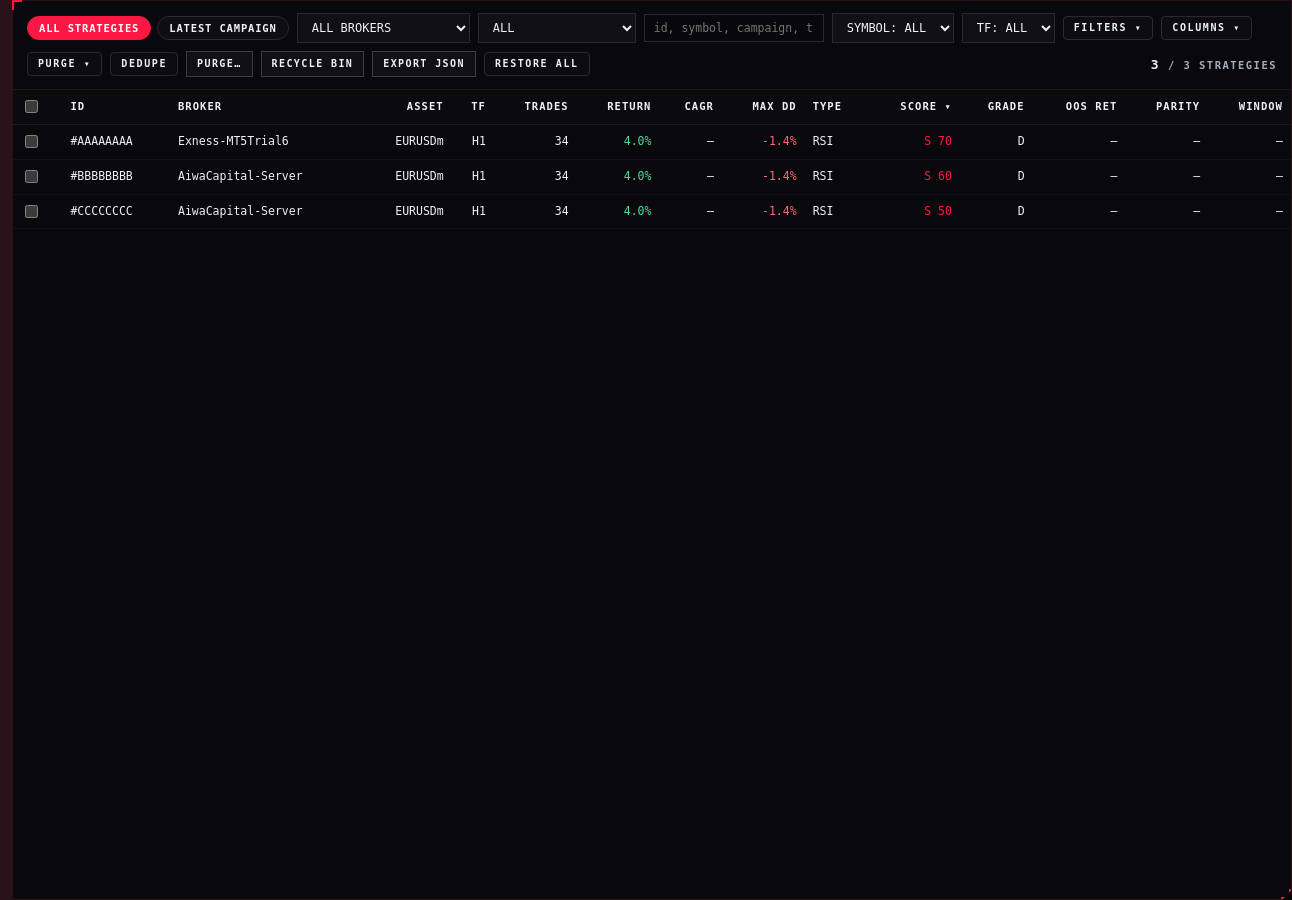
Test: VAULT (DECK) › selects several with Ctrl+click, opens the right-click menu for N SELECTED, and names what each filter hides
The width and height of the screenshot is (1292, 900).
Expected: the text "3 / 3 STRATEGIES" is shown, [1151,58,1277,70]
Click the text "#AAAAAAAA".
click(116, 142)  # box [62,124,170,159]
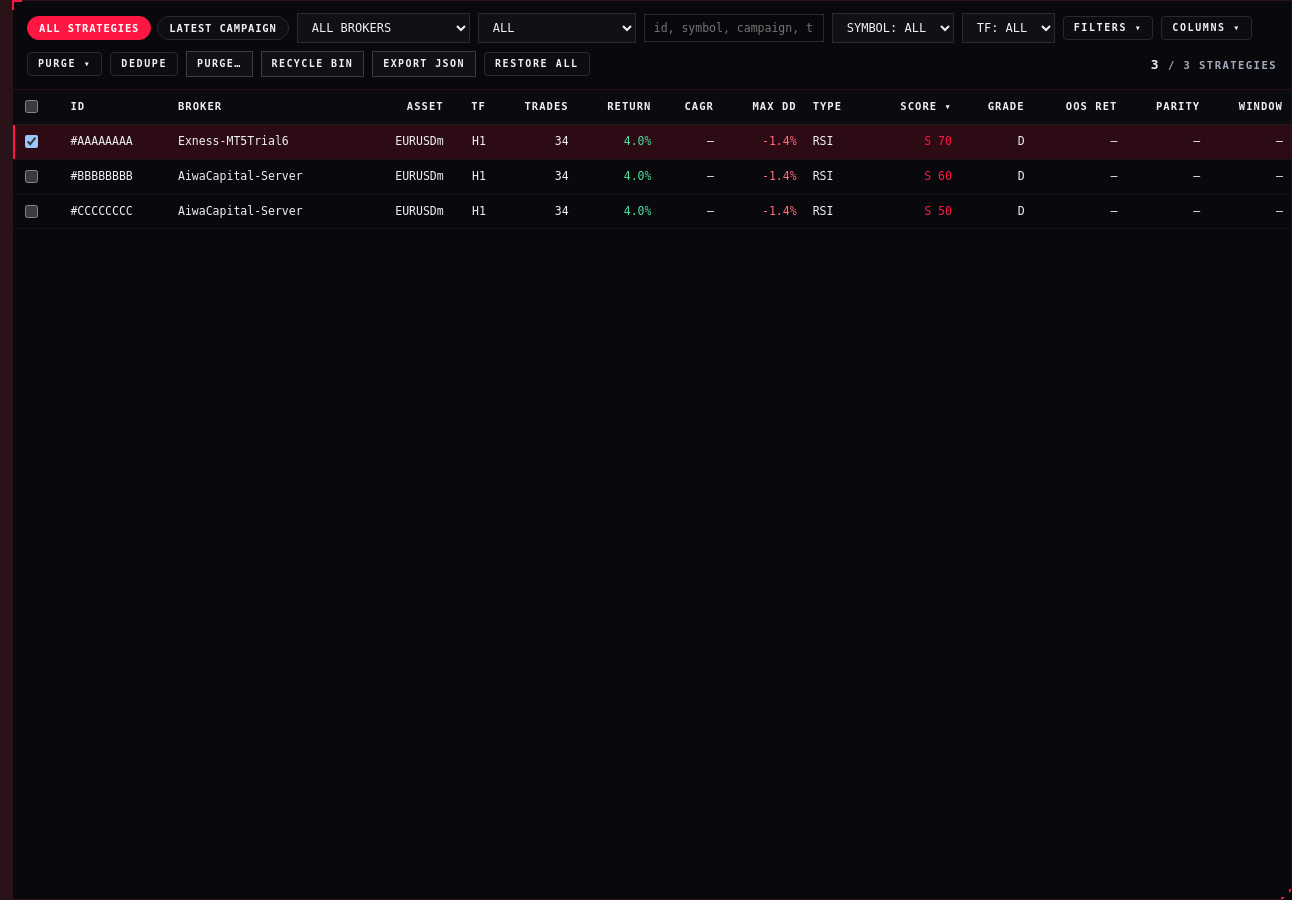
Click the text "#BBBBBBBB".
click(116, 177)  # box [62,159,170,194]
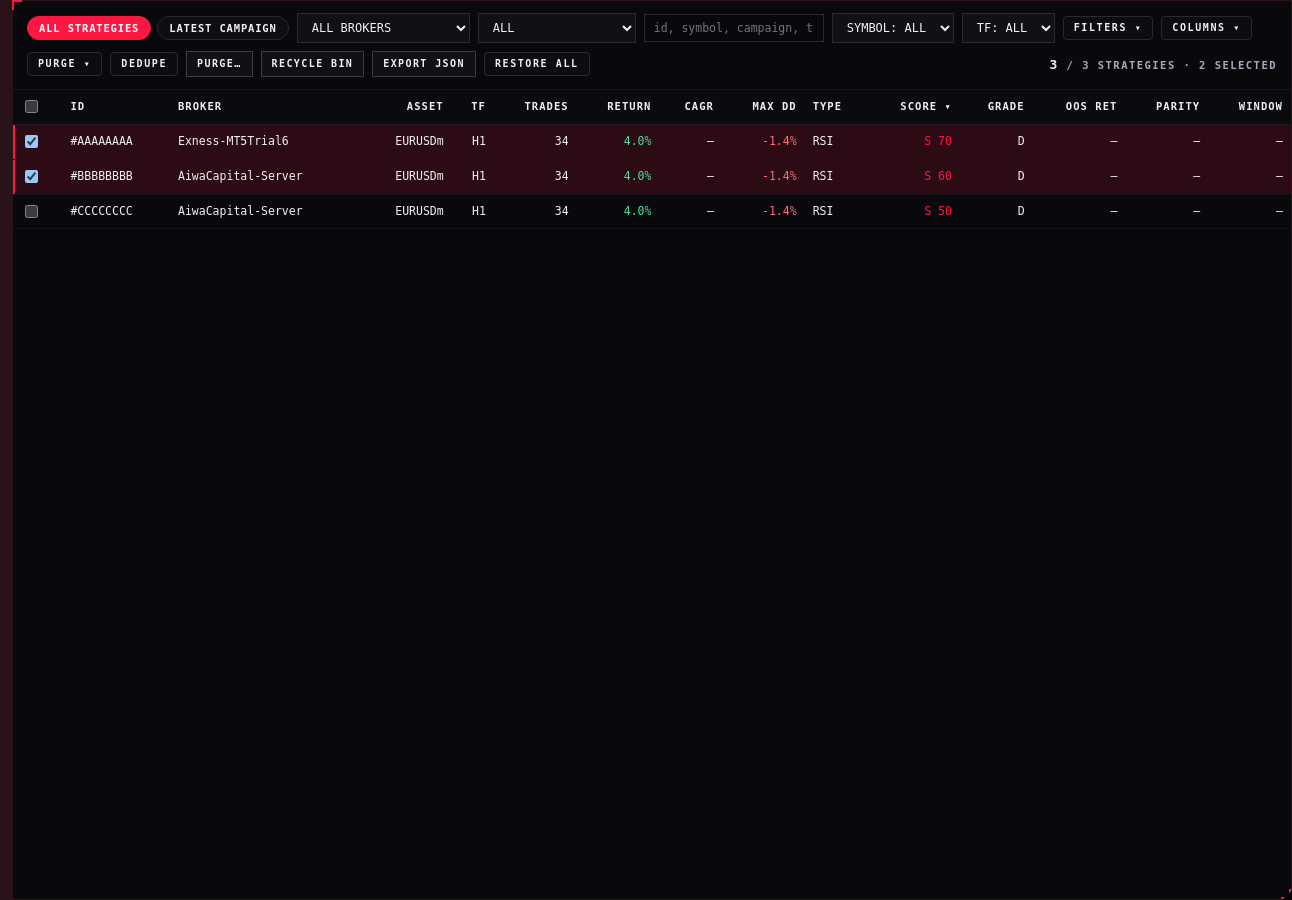
Expected: the text "3 / 3 STRATEGIES · 2 SELECTED" is shown, [1050,58,1277,70]
Right-click the text "#BBBBBBBB".
right_click(116, 177)  # box [62,159,170,194]
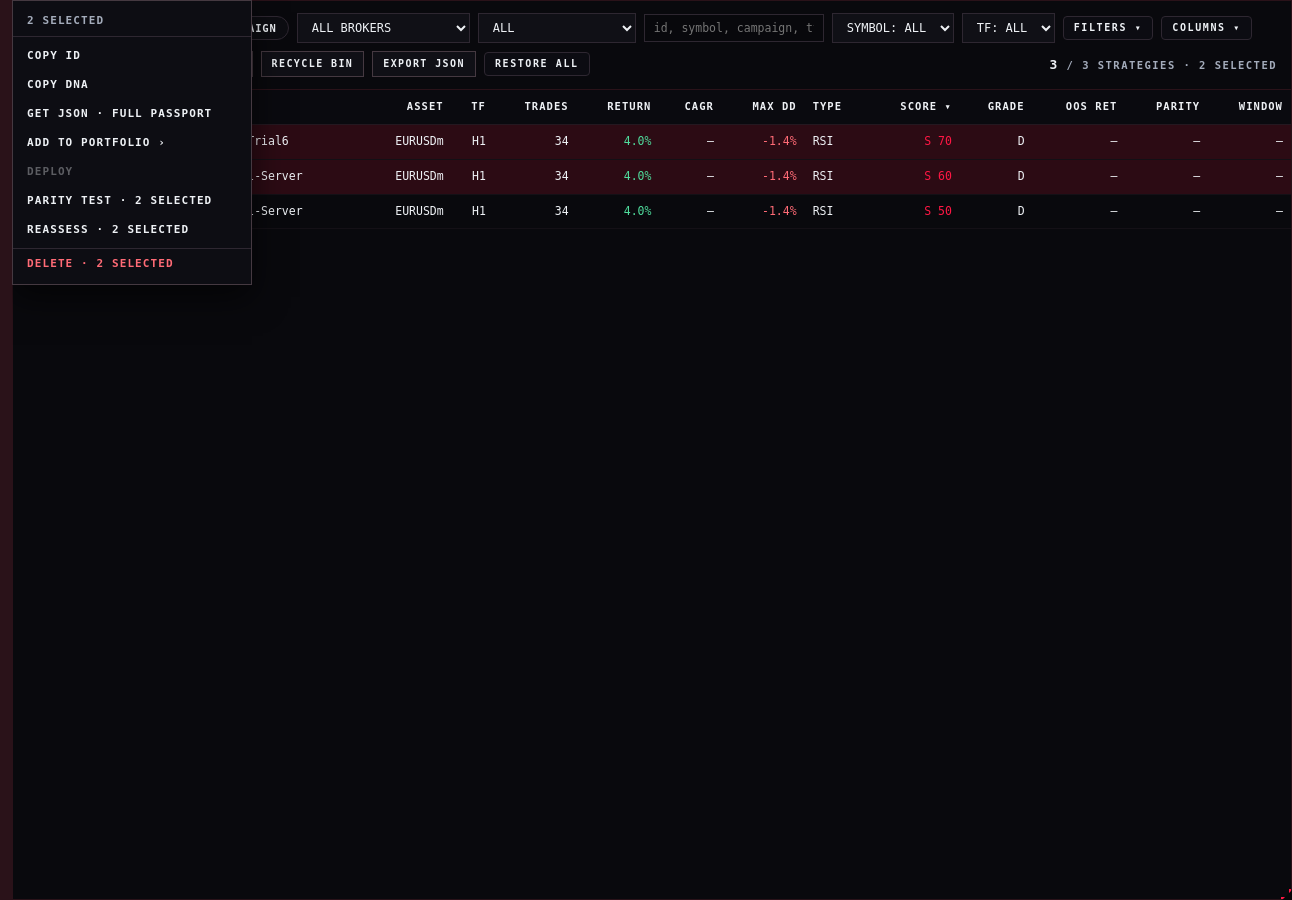
Expected: the menu item "DELETE · 2 SELECTED" is shown, [13,248,251,278]
Expected: the menu item "DEPLOY" is disabled, [13,157,251,186]
Press Escape
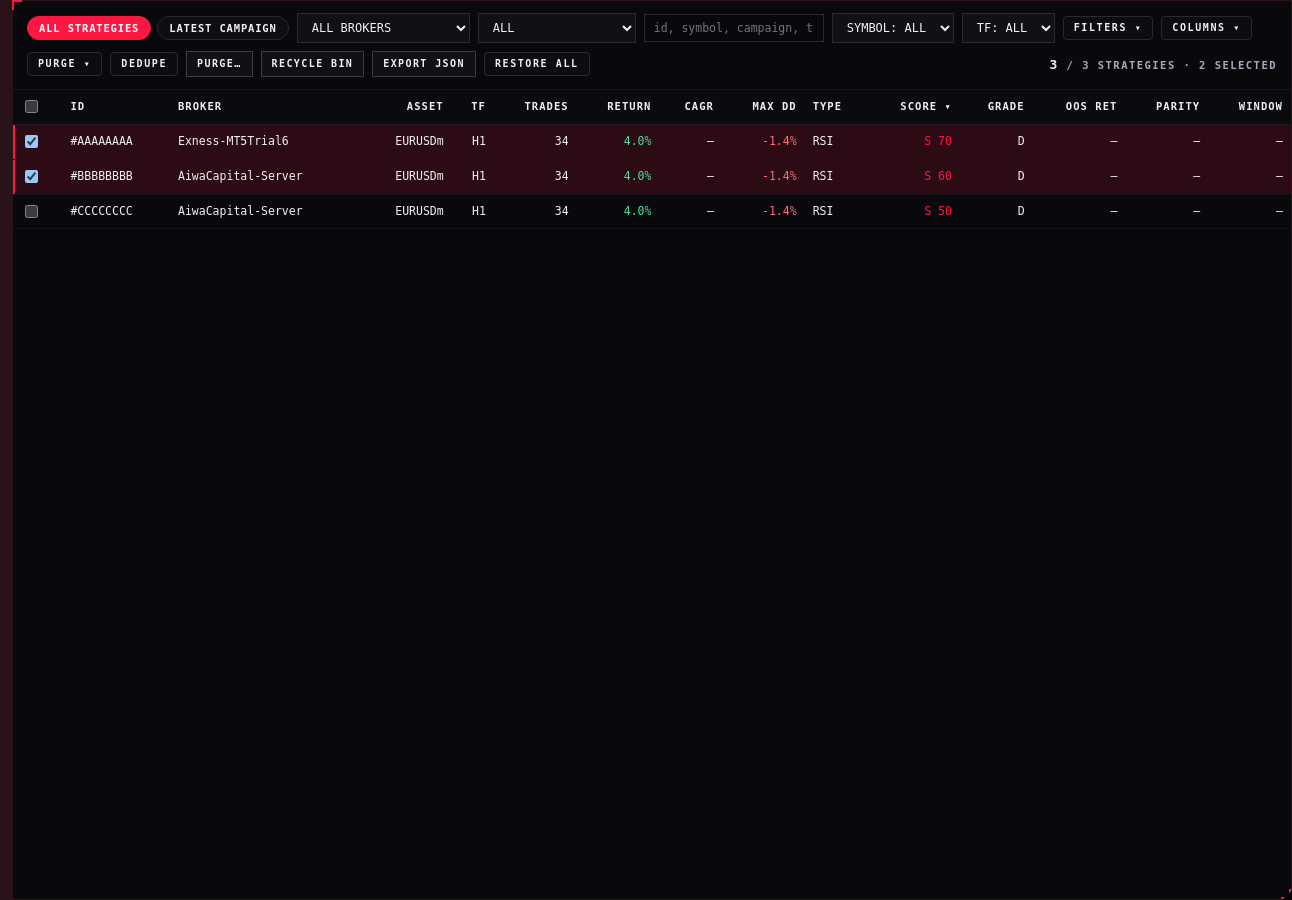
Select "AiwaCapital-Server" in the dropdown named "Broker" at (383, 28), box [297,13,470,43]
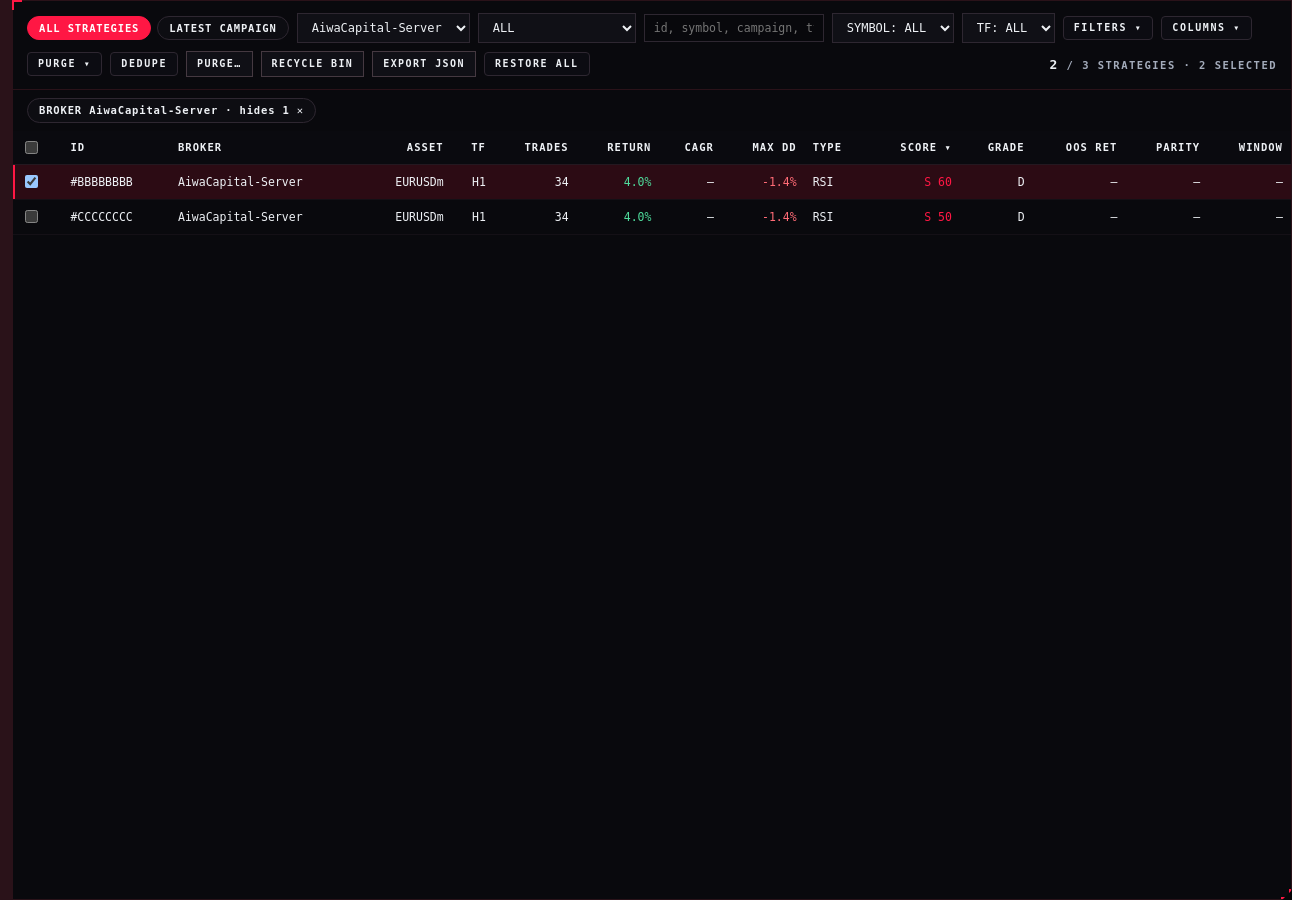
Expected: the button "BROKER AiwaCapital-Server · hides 1 ✕" is shown, [27,98,316,122]
